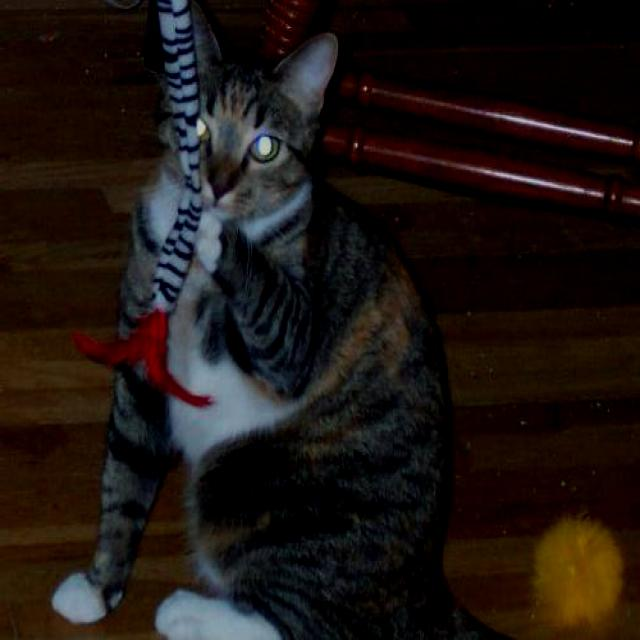Kucing: (30, 0, 481, 625)
